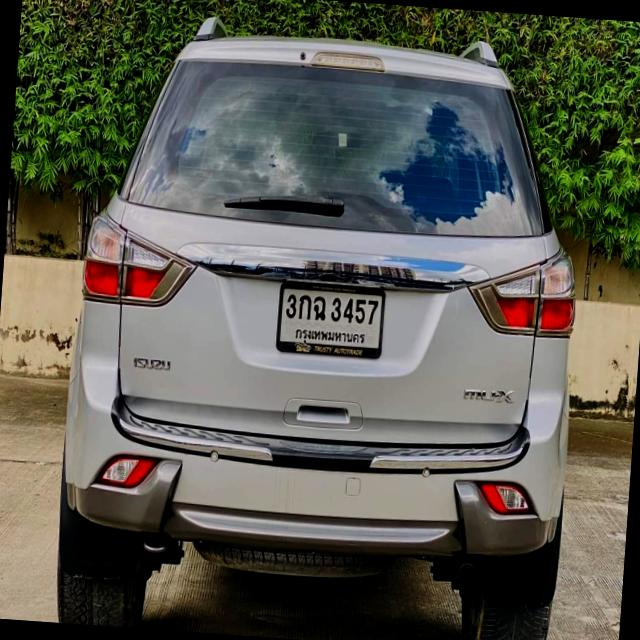license_plate: (274, 280, 387, 358)
